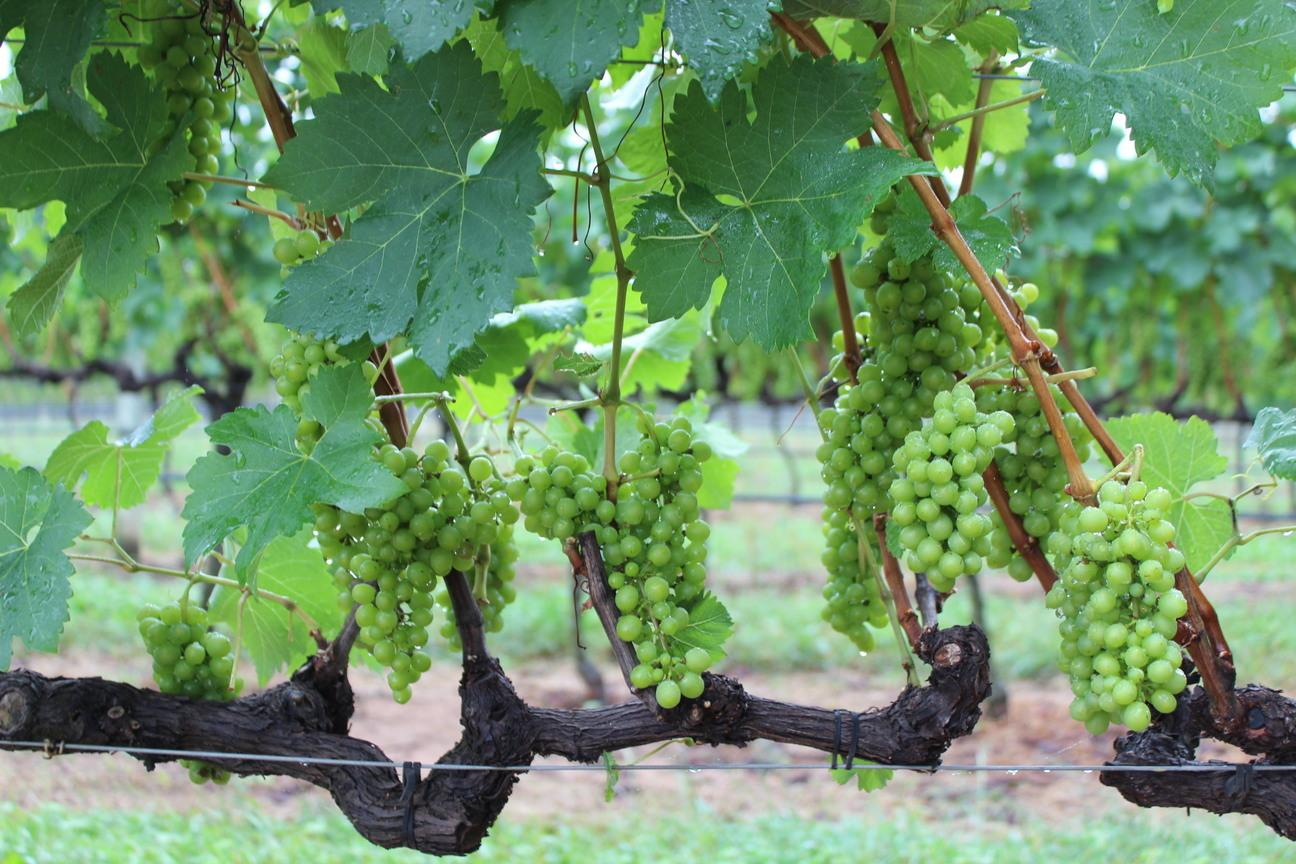leaf: (267, 41, 549, 373), (628, 55, 933, 349), (1011, 0, 1295, 183), (0, 52, 192, 299), (181, 364, 405, 572), (1107, 411, 1233, 569), (43, 384, 200, 507), (0, 467, 91, 669), (497, 0, 641, 108), (0, 0, 108, 133), (664, 0, 779, 98), (311, 0, 491, 59), (211, 585, 313, 684), (255, 530, 336, 626), (6, 233, 81, 336), (886, 187, 961, 271), (949, 195, 1016, 270), (672, 592, 731, 658), (1245, 407, 1295, 479), (238, 572, 251, 583)
